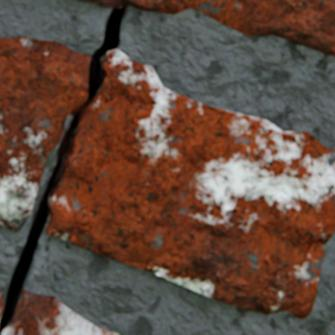broken_brick: (46, 49, 334, 317), (0, 36, 90, 230), (85, 0, 334, 56), (0, 288, 118, 334), (0, 290, 4, 320)
crack: (0, 2, 128, 332)
